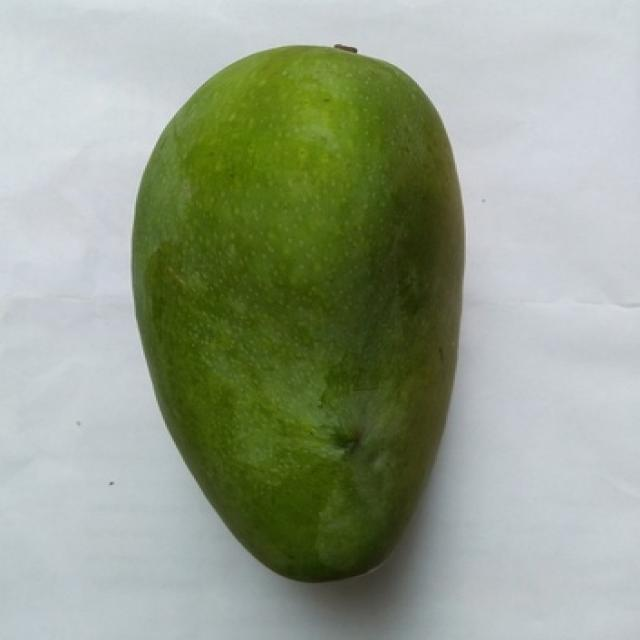Mango: (132, 47, 462, 580)
